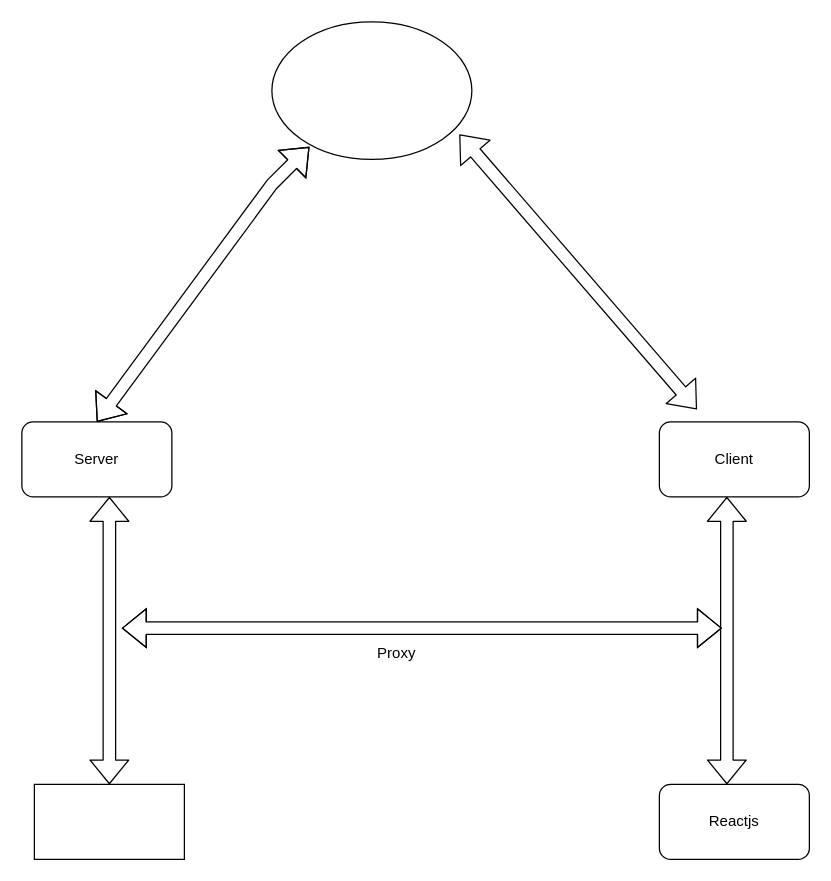
Image size: 831x881. Some labels were removed from this diagram. The centre of each missing label's shape, as x and y in pixels:
"Nodejs" goes at (108,821).
"WeddingMoodz" goes at (371,90).
